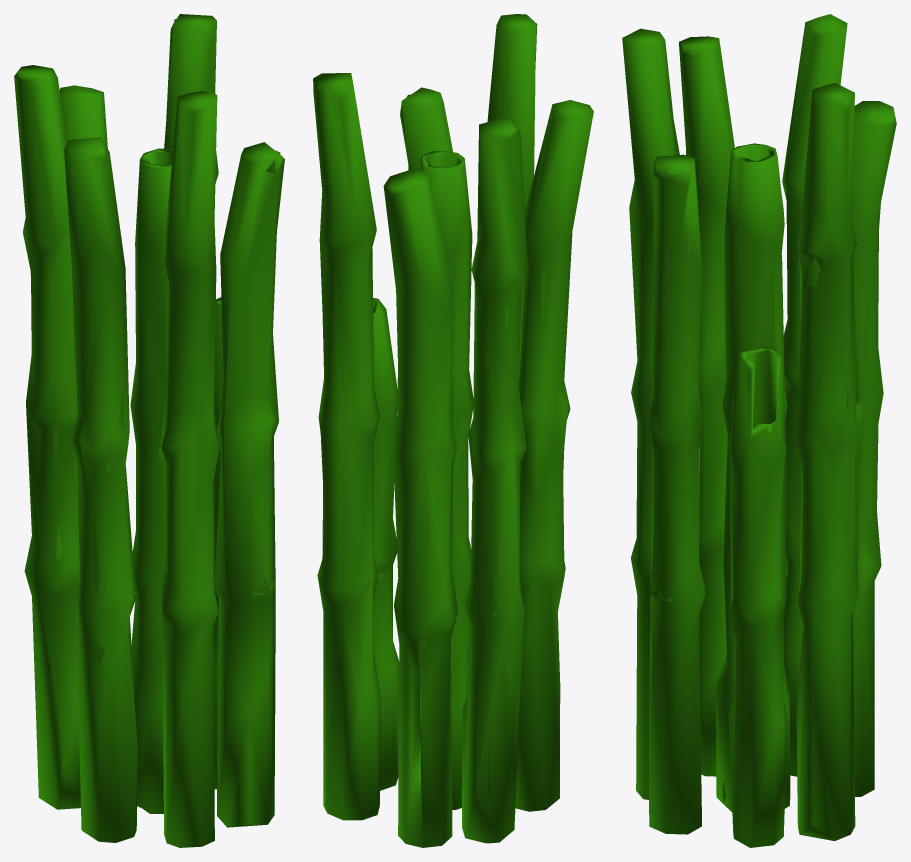
File: gen3d-bamboo-cluster-lod1.glb
The picture shows the model from 3 angles, left to right: view 1: azimuth 30°, elevation 25°; view 2: azimuth 150°, elevation 25°; view 3: azimuth 270°, elevation 25°; orthographic projection. The views are drawn at different scales.
Visible parts, largest first — view 1: part_0; view 2: part_0; view 3: part_0.
Boxes of the visible parts, x1=… form: part_0: x1=14, y1=14, x2=284, y2=847; part_0: x1=313, y1=14, x2=593, y2=847; part_0: x1=622, y1=14, x2=896, y2=847.
Size of the model in its own units: 0.309 by 0.9988 by 0.3286.
